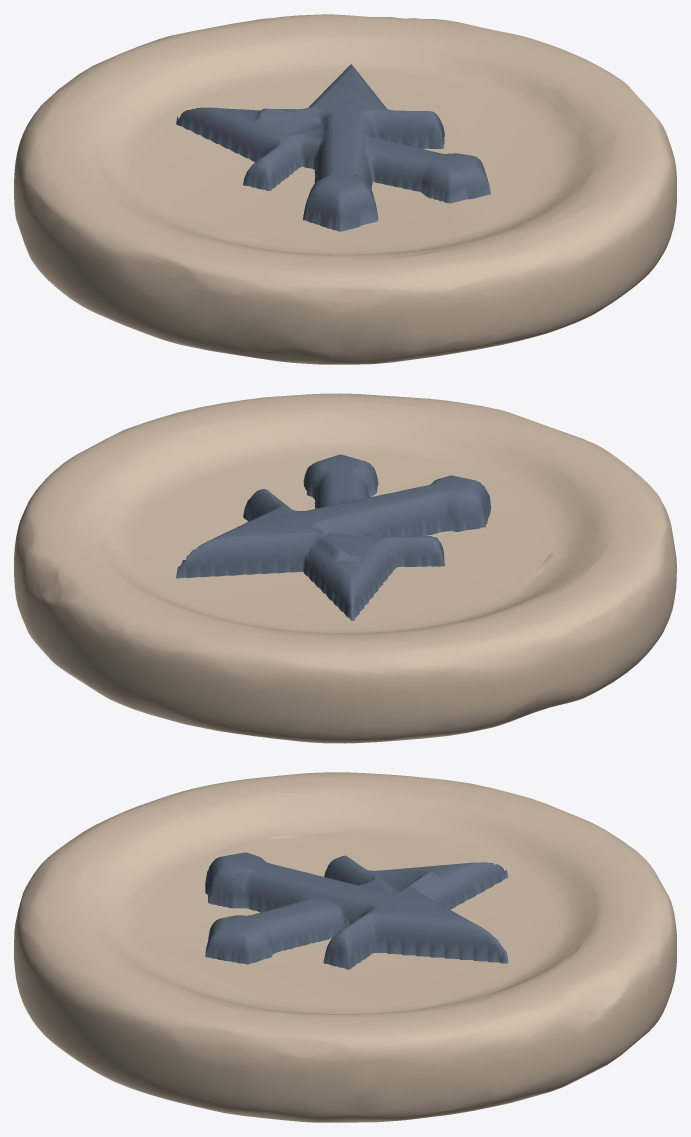
Rendered from token-rogue-red.glb.
The picture shows the model from 3 angles, top to bottom: view 1: azimuth 30°, elevation 25°; view 2: azimuth 150°, elevation 25°; view 3: azimuth 270°, elevation 25°; orthographic projection.
Parts seen in each view (by area): view 1: token_rogue_red; view 2: token_rogue_red; view 3: token_rogue_red.
Boxes of the visible parts, x1,y1,x2,y2 form: token_rogue_red: (14,14,676,364); token_rogue_red: (14,393,676,743); token_rogue_red: (14,772,676,1122).
Bounding box in the file's own units: 0.414 × 0.0722 × 0.4142.
